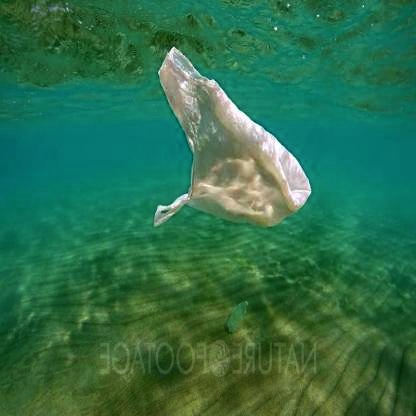pbag: (149, 41, 314, 237)
